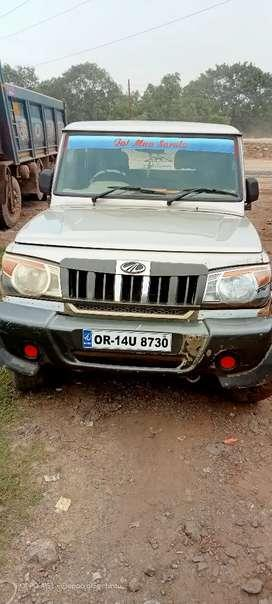OR14U8730: (82, 330, 170, 350)
